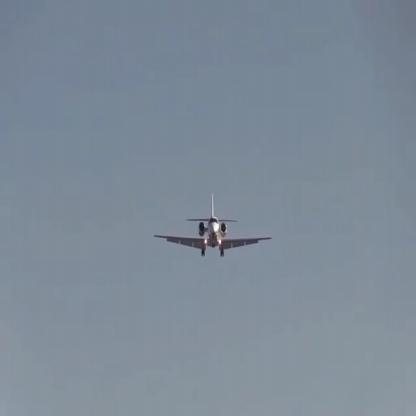CIV_Plane: (154, 194, 272, 258)
